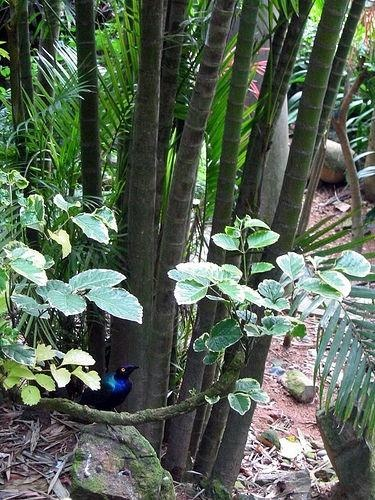bird: (78, 365, 140, 433)
